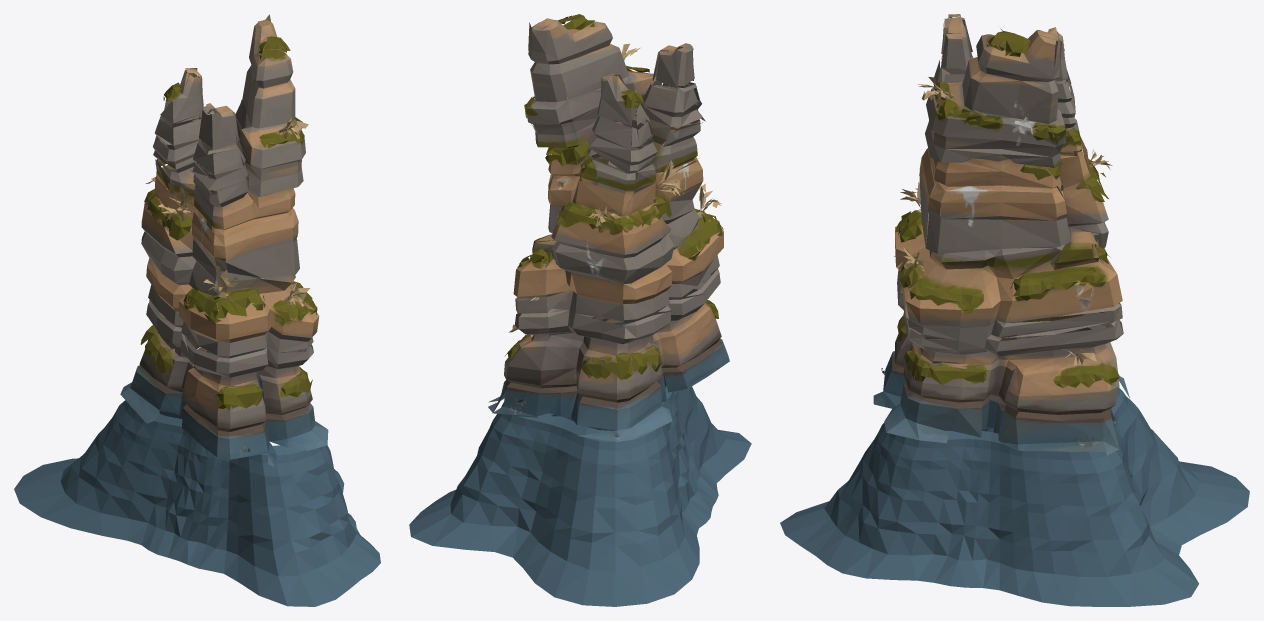
Rendered from spire_b.glb.
The picture shows the model from 3 angles, left to right: view 1: azimuth 30°, elevation 25°; view 2: azimuth 150°, elevation 25°; view 3: azimuth 270°, elevation 25°; orthographic projection. The views are drawn at different scales.
Visible parts, largest first — view 1: lod0; view 2: lod0; view 3: lod0.
Boxes of the visible parts, x1=… form: lod0: x1=14, y1=14, x2=380, y2=606; lod0: x1=409, y1=14, x2=751, y2=606; lod0: x1=780, y1=14, x2=1249, y2=606.
Size of what is drawn, in the model's own units: 2.45 by 4.14 by 3.33.
1 material, 1 textured.
